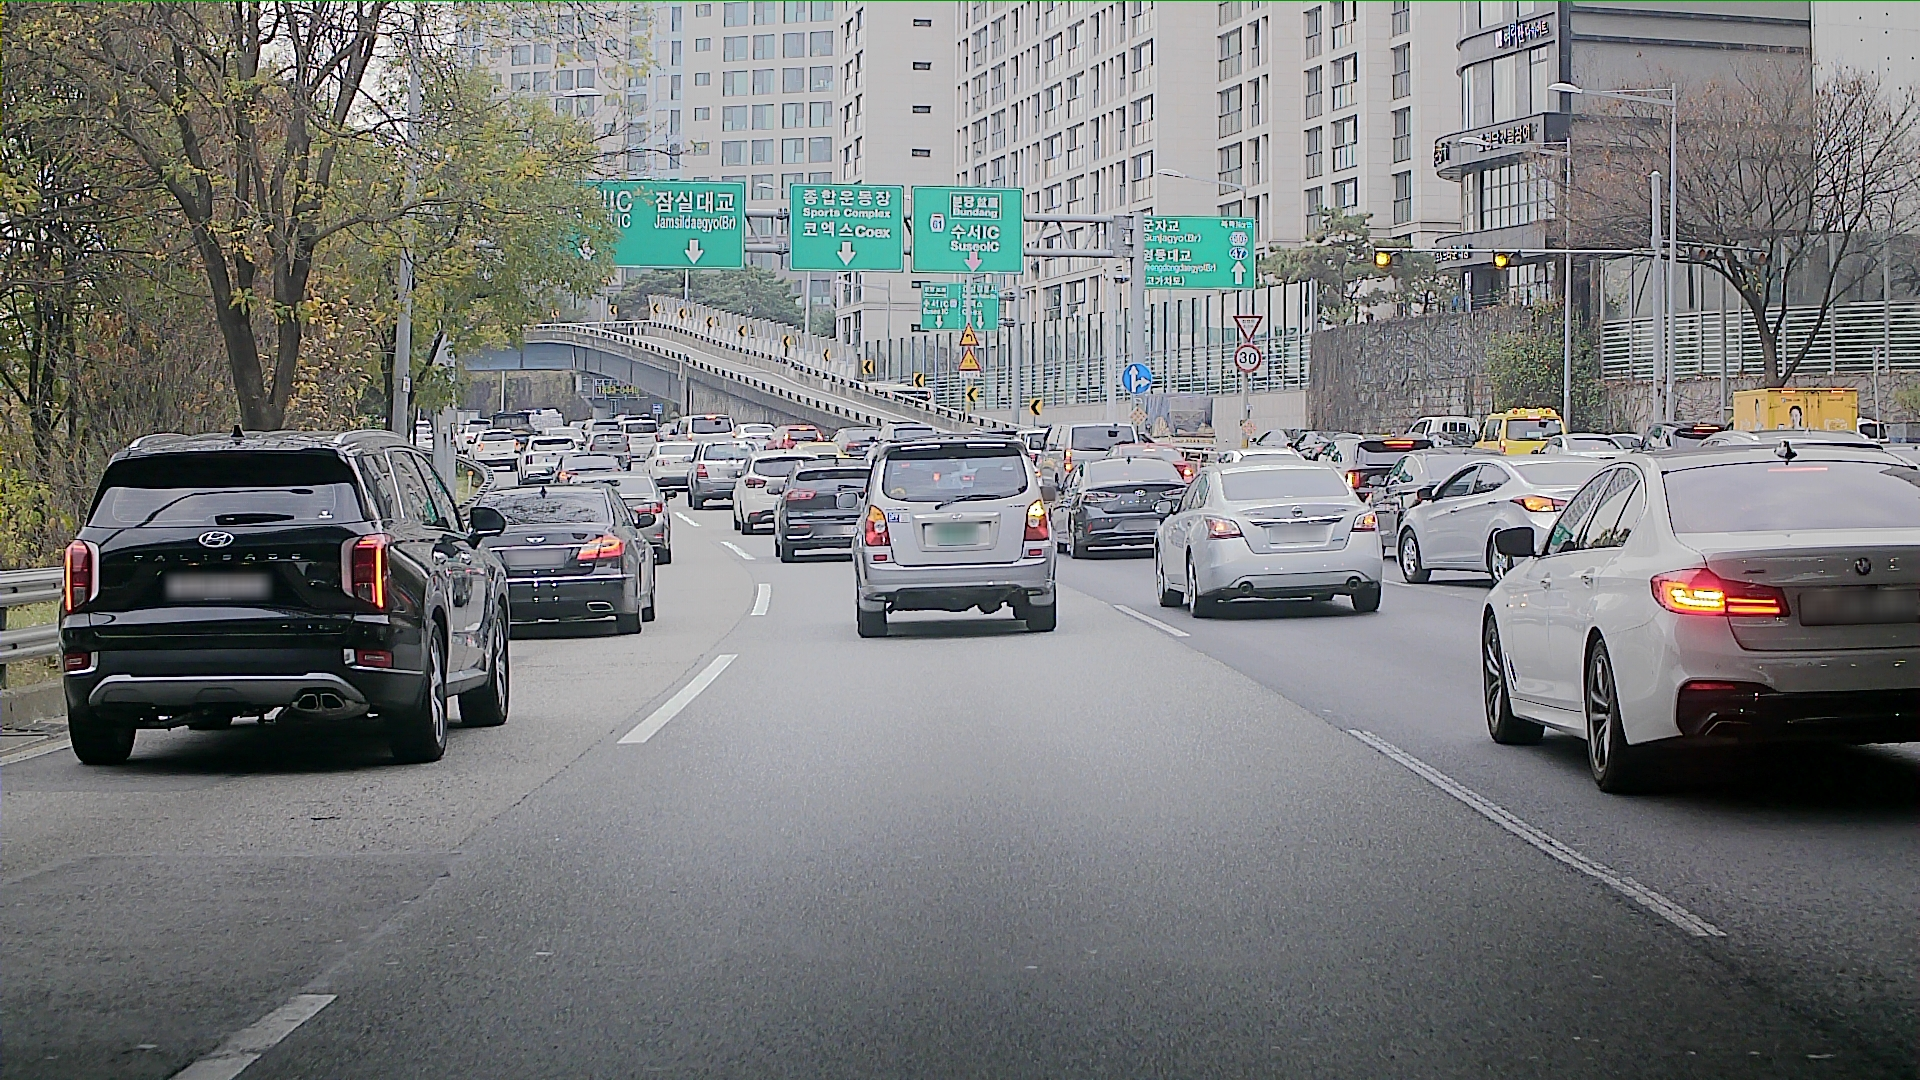trafficLight: (1365, 247, 1528, 266)
trafficSignCircle: (1117, 359, 1155, 394), (1236, 349, 1261, 367)
trafficSignTri: (953, 324, 978, 371), (1232, 314, 1265, 336)
